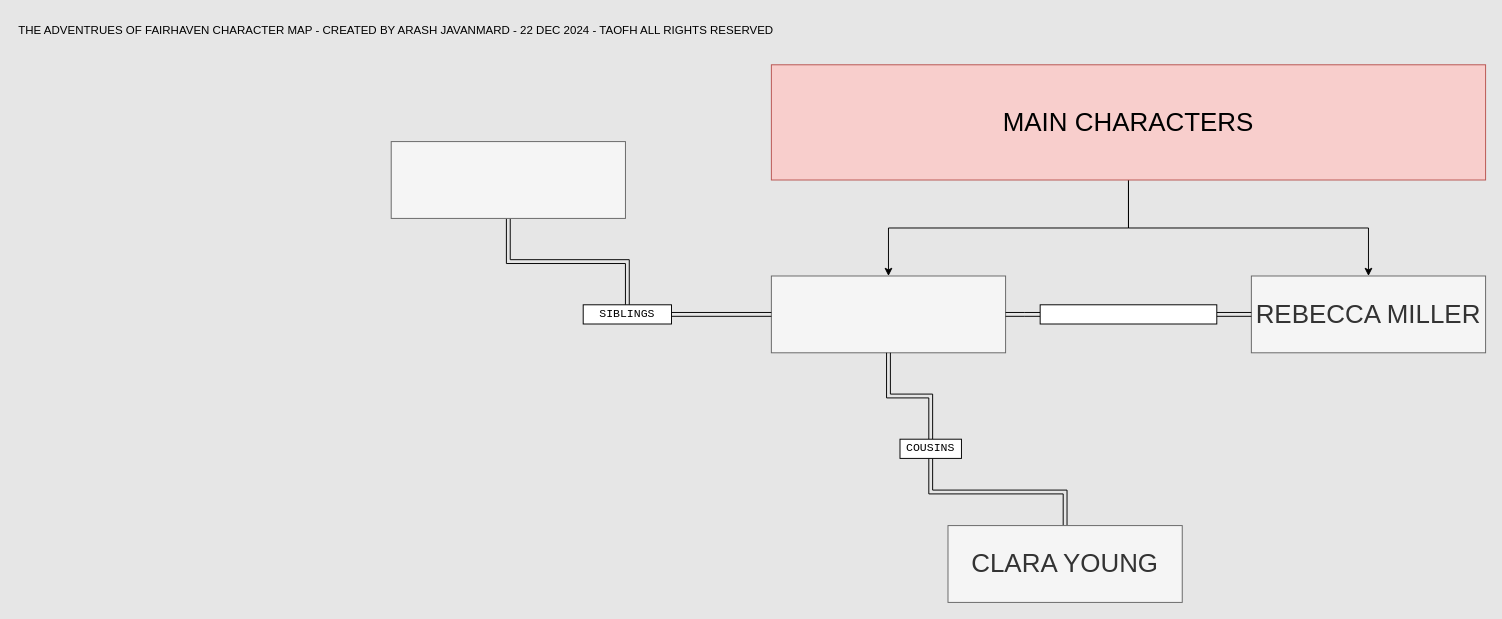
This 1502x619 diagram has some shape labels left out. Each missing label, with the centre of its shape:
"AARON YOUNG" goes at point 888,314.
"ABBY YOUNG" goes at point 507,179.
"KINDERGARTEN BESTFRIENDS" goes at point 1128,314.
